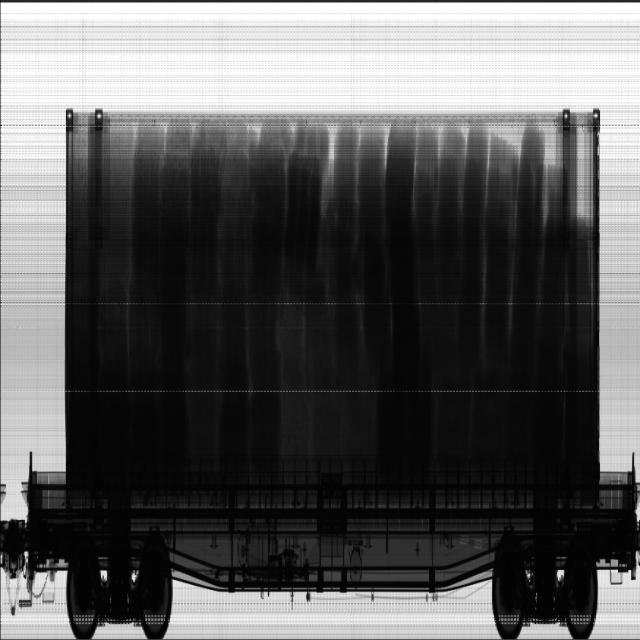clothes: (69, 122, 594, 474)
